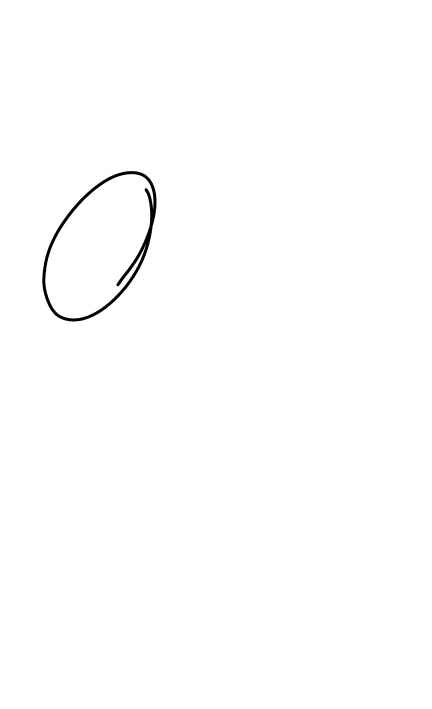Circle: (38, 168, 158, 324)
